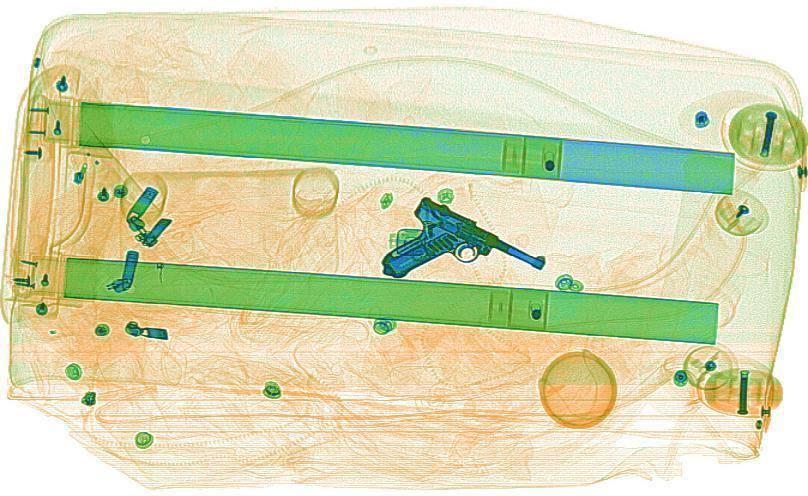Gun: (336, 193, 556, 315)
